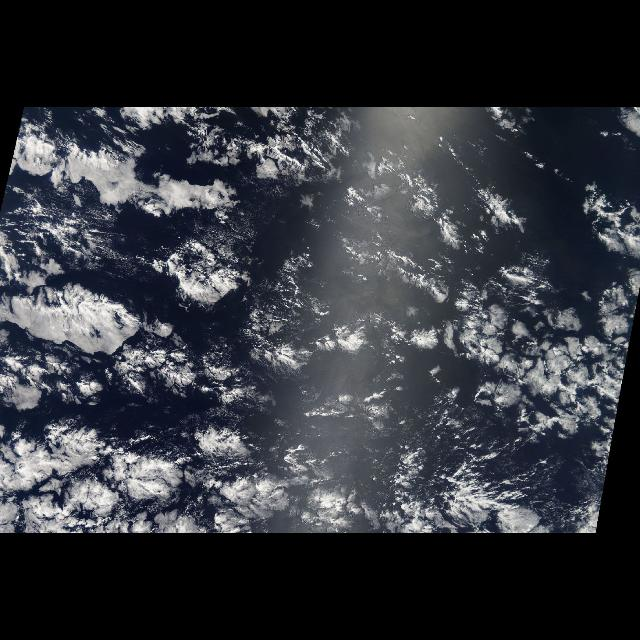Flower: (1, 178, 372, 532), (403, 230, 639, 482)
